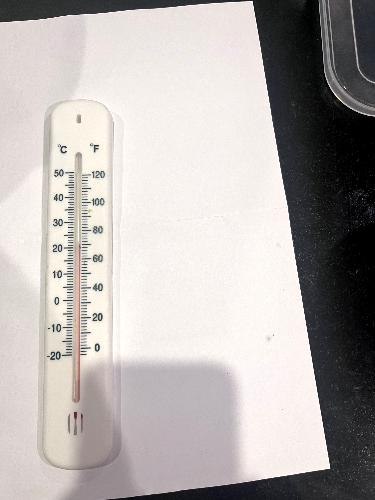thermo: (42, 100, 125, 467)
